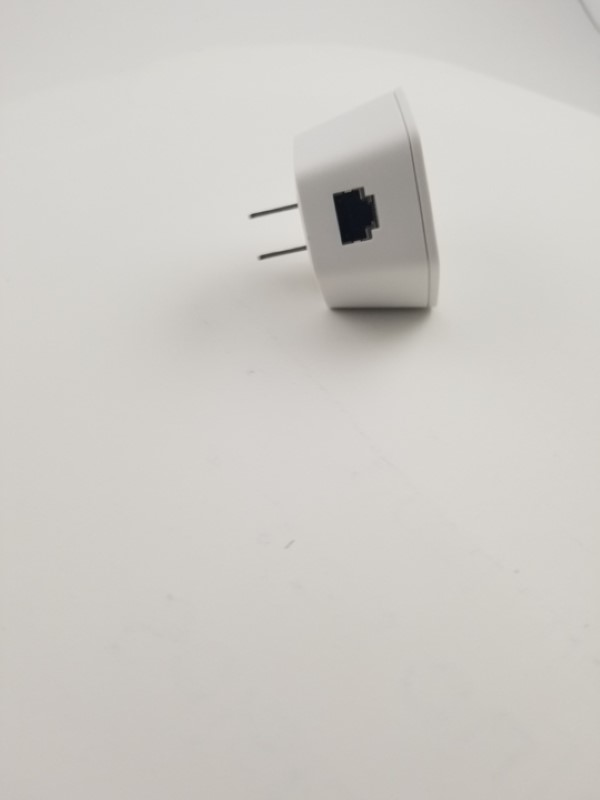pod: (247, 80, 448, 331)
